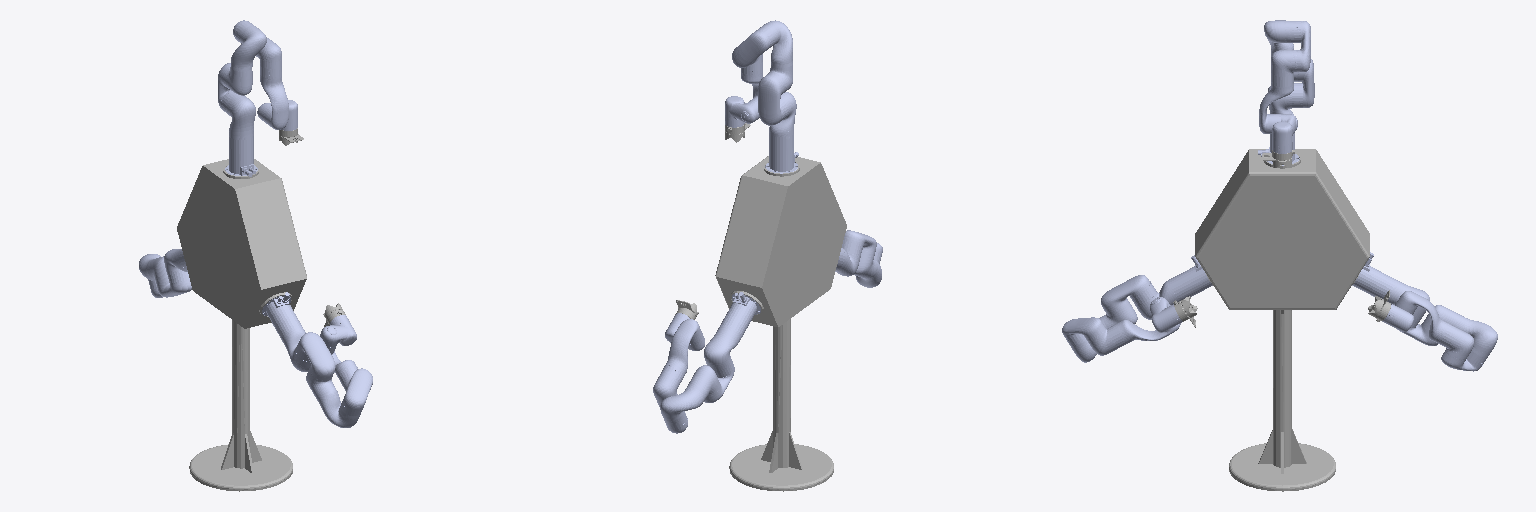
--- What the picture shows (computed from the rendered views, not written in the file) ---
The picture shows the robot from 3 angles, left to right: view 1: azimuth 30°, elevation 25°; view 2: azimuth 150°, elevation 25°; view 3: azimuth 270°, elevation 25°; orthographic projection.
Robot: fullbot — 22 links, 21 joints (18 revolute, 3 fixed); root link base_link; default pose: every joint at zero.
Visible links, largest first — view 1: base_link, link2_left, link2_up, link1_up, link2_right, link4_up, link3_left, link0_up, link0_left, link3_up, link5_left, link1_left (+1 smaller); view 2: base_link, link2_up, link2_right, link1_right, link2_left, link3_up, link4_right, link0_up, link0_right, link5_up, link3_right, link1_up (+1 smaller); view 3: base_link, link2_left, link2_right, link2_up, link3_up, link3_left, link3_right, link4_right, link0_left, link0_right, link5_up, link4_up (+5 smaller).
Boxes of the visible links, x1,y1,x2,y2 form: base_link: (177,159,306,491); link2_left: (299,332,363,427); link2_up: (218,22,266,108); link1_up: (221,91,255,139); link2_right: (139,254,191,297); link4_up: (260,75,288,129); link3_left: (338,367,372,409); link0_up: (225,136,257,176); link0_left: (262,292,302,339); link3_up: (233,20,281,78); link5_left: (320,315,356,346); link1_left: (282,327,310,371); base_link: (715,156,846,491); link2_up: (756,20,792,125); link2_right: (660,365,734,429); link1_right: (704,326,740,377); link2_left: (844,230,881,287); link3_up: (732,31,769,74); link4_right: (664,319,702,375); link0_up: (765,133,798,173); link0_right: (720,292,760,337); link5_up: (725,96,759,127); link3_right: (653,365,687,433); link1_up: (769,92,796,136); base_link: (1195,149,1369,491); link2_left: (1066,275,1149,362); link2_right: (1400,305,1497,365); link2_up: (1264,20,1314,107); link3_up: (1271,21,1310,86); link3_left: (1062,317,1126,355); link3_right: (1438,323,1482,371); link4_right: (1395,291,1447,342); link0_left: (1170,255,1212,300); link0_right: (1352,252,1395,298); link5_up: (1272,114,1297,153); link4_up: (1259,83,1293,133).
Bounding box of the posed robot: 0.4452 × 1.62 × 1.86 m (x, y, z).
22 mesh visuals loaded from 22 distinct referenced files (22 binary STL).

The robot description file, URDF, robot "fullbot":
<?xml version="1.0" encoding="utf-8"?>
<!-- This URDF was automatically created by SolidWorks to URDF Exporter! Originally created by Stephen Brawner ([email redacted]) 
     Commit Version: 1.6.0-4-g7f85cfe  Build Version: 1.6.7995.38578
     For more information, please see http://wiki.ros.org/sw_urdf_exporter -->
<robot
  name="fullbot">
  <link
    name="base_link">
    <inertial>
      <origin
        xyz="-0.00237670668945162 0.00109688224125671 0.762061321867194"
        rpy="0 0 0" />
      <mass
        value="83.9918863501521" />
      <inertia
        ixx="4.58131435742131"
        ixy="-3.09418403263941E-10"
        ixz="0.000336204370522542"
        iyy="3.15330051931996"
        iyz="-7.78528789321876E-10"
        izz="3.71265295574349" />
    </inertial>
    <visual>
      <origin
        xyz="0 0 0"
        rpy="0 0 0" />
      <geometry>
        <mesh
          filename="package://fullbot/meshes/base_link.STL" />
      </geometry>
      <material
        name="">
        <color
          rgba="0.752941176470588 0.752941176470588 0.752941176470588 1" />
      </material>
    </visual>
    <collision>
      <origin
        xyz="0 0 0"
        rpy="0 0 0" />
      <geometry>
        <mesh
          filename="package://fullbot/meshes/base_link.STL" />
      </geometry>
    </collision>
  </link>
  <link
    name="link0_up">
    <inertial>
      <origin
        xyz="0.00152351965279276 -9.20975643461316E-05 0.0721709681332363"
        rpy="0 0 0" />
      <mass
        value="1.15012347681565" />
      <inertia
        ixx="0.00305297585598164"
        ixy="7.49722844279344E-06"
        ixz="7.88115667134872E-05"
        iyy="0.00315399366896922"
        iyz="-4.77295655185554E-06"
        izz="0.00149595457455531" />
    </inertial>
    <visual>
      <origin
        xyz="0 0 0"
        rpy="0 0 0" />
      <geometry>
        <mesh
          filename="package://fullbot/meshes/link0_up.STL" />
      </geometry>
      <material
        name="">
        <color
          rgba="0.792156862745098 0.819607843137255 0.933333333333333 1" />
      </material>
    </visual>
    <collision>
      <origin
        xyz="0 0 0"
        rpy="0 0 0" />
      <geometry>
        <mesh
          filename="package://fullbot/meshes/link0_up.STL" />
      </geometry>
    </collision>
  </link>
  <joint
    name="joint0_up"
    type="fixed">
    <origin
      xyz="0 0 1.2629"
      rpy="0 0 -1.5708" />
    <parent
      link="base_link" />
    <child
      link="link0_up" />
    <axis
      xyz="0 0 0" />
  </joint>
  <link
    name="link1_up">
    <inertial>
      <origin
        xyz="-0.00635116531185579 0.000207381647010473 0.0933560245185359"
        rpy="0 0 0" />
      <mass
        value="1.3256364074878" />
      <inertia
        ixx="0.00337516344067471"
        ixy="2.91047495398252E-06"
        ixz="0.000390263321422472"
        iyy="0.0039707875530841"
        iyz="-7.74618991821581E-06"
        izz="0.00211705553045749" />
    </inertial>
    <visual>
      <origin
        xyz="0 0 0"
        rpy="0 0 0" />
      <geometry>
        <mesh
          filename="package://fullbot/meshes/link1_up.STL" />
      </geometry>
      <material
        name="">
        <color
          rgba="0.792156862745098 0.819607843137255 0.933333333333333 1" />
      </material>
    </visual>
    <collision>
      <origin
        xyz="0 0 0"
        rpy="0 0 0" />
      <geometry>
        <mesh
          filename="package://fullbot/meshes/link1_up.STL" />
      </geometry>
    </collision>
  </link>
  <joint
    name="joint1_up"
    type="revolute">
    <origin
      xyz="0 0 0.1448"
      rpy="0 0 0" />
    <parent
      link="link0_up" />
    <child
      link="link1_up" />
    <axis
      xyz="0 0 -1" />
    <limit
      lower="-6.28"
      upper="6.28"
      effort="20"
      velocity="1.5" />
  </joint>
  <link
    name="link2_up">
    <inertial>
      <origin
        xyz="-0.164334922175455 -0.0131391380189071 -0.0386527377791693"
        rpy="0 0 0" />
      <mass
        value="2.69348731441247" />
      <inertia
        ixx="0.00426310623774934"
        ixy="-0.00277535500543395"
        ixz="-0.000798338261530704"
        iyy="0.0150045970572789"
        iyz="0.000100430735697421"
        izz="0.0156052703291197" />
    </inertial>
    <visual>
      <origin
        xyz="0 0 0"
        rpy="0 0 0" />
      <geometry>
        <mesh
          filename="package://fullbot/meshes/link2_up.STL" />
      </geometry>
      <material
        name="">
        <color
          rgba="0.792156862745098 0.819607843137255 0.933333333333333 1" />
      </material>
    </visual>
    <collision>
      <origin
        xyz="0 0 0"
        rpy="0 0 0" />
      <geometry>
        <mesh
          filename="package://fullbot/meshes/link2_up.STL" />
      </geometry>
    </collision>
  </link>
  <joint
    name="joint2_up"
    type="revolute">
    <origin
      xyz="-0.0652950431339773 0.000349015389753116 0.122000005321613"
      rpy="3.14159265358979 1.5707963267949 0" />
    <parent
      link="link1_up" />
    <child
      link="link2_up" />
    <axis
      xyz="0 0 -1" />
    <limit
      lower="-2.05"
      upper="2.09"
      effort="20"
      velocity="1.5" />
  </joint>
  <link
    name="link3_up">
    <inertial>
      <origin
        xyz="0.0790017026576337 -0.0622013013556818 -0.0189186889395293"
        rpy="0 0 0" />
      <mass
        value="1.30253510106472" />
      <inertia
        ixx="0.00393747848651755"
        ixy="0.00136510222638933"
        ixz="0.00159608028913008"
        iyy="0.00525344165407256"
        iyz="-0.000920518752882782"
        izz="0.00455361194720345" />
    </inertial>
    <visual>
      <origin
        xyz="0 0 0"
        rpy="0 0 0" />
      <geometry>
        <mesh
          filename="package://fullbot/meshes/link3_up.STL" />
      </geometry>
      <material
        name="">
        <color
          rgba="0.792156862745098 0.819607843137255 0.933333333333333 1" />
      </material>
    </visual>
    <collision>
      <origin
        xyz="0 0 0"
        rpy="0 0 0" />
      <geometry>
        <mesh
          filename="package://fullbot/meshes/link3_up.STL" />
      </geometry>
    </collision>
  </link>
  <joint
    name="joint3_up"
    type="revolute">
    <origin
      xyz="-0.285902778509353 -0.053312933228828 -0.00830262337133821"
      rpy="0 0 0" />
    <parent
      link="link2_up" />
    <child
      link="link3_up" />
    <axis
      xyz="0 0 -1" />
    <limit
      lower="-3.92"
      upper="0.19"
      effort="20"
      velocity="1.5" />
  </joint>
  <link
    name="link4_up">
    <inertial>
      <origin
        xyz="0.0321807687354634 -0.00025917554824062 0.107627187331176"
        rpy="0 0 0" />
      <mass
        value="0.789560351493029" />
      <inertia
        ixx="0.00404949168648296"
        ixy="-3.36598707087042E-06"
        ixz="-0.00099079876639351"
        iyy="0.00449572325717299"
        iyz="-2.29651540749869E-06"
        izz="0.00105175547833875" />
    </inertial>
    <visual>
      <origin
        xyz="0 0 0"
        rpy="0 0 0" />
      <geometry>
        <mesh
          filename="package://fullbot/meshes/link4_up.STL" />
      </geometry>
      <material
        name="">
        <color
          rgba="0.792156862745098 0.819607843137255 0.933333333333333 1" />
      </material>
    </visual>
    <collision>
      <origin
        xyz="0 0 0"
        rpy="0 0 0" />
      <geometry>
        <mesh
          filename="package://fullbot/meshes/link4_up.STL" />
      </geometry>
    </collision>
  </link>
  <joint
    name="joint4_up"
    type="revolute">
    <origin
      xyz="0.159174227494142 -0.0777509869090924 -0.0574946534887292"
      rpy="0 1.5707963267949 0" />
    <parent
      link="link3_up" />
    <child
      link="link4_up" />
    <axis
      xyz="0 0 -1" />
    <limit
      lower="-6.28"
      upper="6.28"
      effort="20"
      velocity="1.5" />
  </joint>
  <link
    name="link5_up">
    <inertial>
      <origin
        xyz="0.0467464429721703 -0.00940639676845545 -0.0231013060407902"
        rpy="0 0 0" />
      <mass
        value="0.723051769580643" />
      <inertia
        ixx="0.000793027726972335"
        ixy="0.000197964210793357"
        ixz="-0.000254464226983087"
        iyy="0.00148592083068407"
        iyz="5.97819367646225E-05"
        izz="0.00164704279225573" />
    </inertial>
    <visual>
      <origin
        xyz="0 0 0"
        rpy="0 0 0" />
      <geometry>
        <mesh
          filename="package://fullbot/meshes/link5_up.STL" />
      </geometry>
      <material
        name="">
        <color
          rgba="0.792156862745098 0.819607843137255 0.933333333333333 1" />
      </material>
    </visual>
    <collision>
      <origin
        xyz="0 0 0"
        rpy="0 0 0" />
      <geometry>
        <mesh
          filename="package://fullbot/meshes/link5_up.STL" />
      </geometry>
    </collision>
  </link>
  <joint
    name="joint5_up"
    type="revolute">
    <origin
      xyz="0.0147482654558819 -0.000436124905815183 0.182995732412003"
      rpy="-1.5707963267949 0 -1.5707963267949" />
    <parent
      link="link4_up" />
    <child
      link="link5_up" />
    <axis
      xyz="0 0 1" />
    <limit
      lower="-1.69"
      upper="3.14"
      effort="20"
      velocity="1.5" />
  </joint>
  <link
    name="link6_up">
    <inertial>
      <origin
        xyz="-0.00127764071195329 7.89251114463596E-09 0.0348924628163474"
        rpy="0 0 0" />
      <mass
        value="0.240703496519078" />
      <inertia
        ixx="0.000111819933042724"
        ixy="1.06441768267333E-12"
        ixz="3.17569406177313E-07"
        iyy="0.000124185578330655"
        iyz="-2.44652552338761E-11"
        izz="0.000199479046718238" />
    </inertial>
    <visual>
      <origin
        xyz="0 0 0"
        rpy="0 0 0" />
      <geometry>
        <mesh
          filename="package://fullbot/meshes/link6_up.STL" />
      </geometry>
      <material
        name="">
        <color
          rgba="0.752941176470588 0.752941176470588 0.752941176470588 1" />
      </material>
    </visual>
    <collision>
      <origin
        xyz="0 0 0"
        rpy="0 0 0" />
      <geometry>
        <mesh
          filename="package://fullbot/meshes/link6_up.STL" />
      </geometry>
    </collision>
  </link>
  <joint
    name="joint6_up"
    type="revolute">
    <origin
      xyz="0.0758728691169504 -0.0585237361444011 -0.0143389355601516"
      rpy="1.5707963267949 1.5707963267949 0" />
    <parent
      link="link5_up" />
    <child
      link="link6_up" />
    <axis
      xyz="0 0 -1" />
    <limit
      lower="-6.28"
      upper="6.28"
      effort="20"
      velocity="1.5" />
  </joint>
  <link
    name="link0_right">
    <inertial>
      <origin
        xyz="0.00152352214909268 -9.20950558262884E-05 0.072170983394065"
        rpy="0 0 0" />
      <mass
        value="1.15012354839417" />
      <inertia
        ixx="0.00305297729491234"
        ixy="7.49727624531085E-06"
        ixz="7.88116536111991E-05"
        iyy="0.00315399502526908"
        iyz="-4.77312392810153E-06"
        izz="0.00149595458411752" />
    </inertial>
    <visual>
      <origin
        xyz="0 0 0"
        rpy="0 0 0" />
      <geometry>
        <mesh
          filename="package://fullbot/meshes/link0_right.STL" />
      </geometry>
      <material
        name="">
        <color
          rgba="0.792156862745098 0.819607843137255 0.933333333333333 1" />
      </material>
    </visual>
    <collision>
      <origin
        xyz="0 0 0"
        rpy="0 0 0" />
      <geometry>
        <mesh
          filename="package://fullbot/meshes/link0_right.STL" />
      </geometry>
    </collision>
  </link>
  <joint
    name="joint0_right"
    type="fixed">
    <origin
      xyz="0 0.2625 0.80825"
      rpy="3.1416 -1.0472 1.5708" />
    <parent
      link="base_link" />
    <child
      link="link0_right" />
    <axis
      xyz="0 0 0" />
  </joint>
  <link
    name="link1_right">
    <inertial>
      <origin
        xyz="-0.00635141038711484 0.000207534921337451 0.0933560223181532"
        rpy="0 0 0" />
      <mass
        value="1.32562534805268" />
      <inertia
        ixx="0.0033751569034854"
        ixy="2.90184699872976E-06"
        ixz="0.000390274835452127"
        iyy="0.00397076269428928"
        iyz="-7.74687080996629E-06"
        izz="0.00211702052844463" />
    </inertial>
    <visual>
      <origin
        xyz="0 0 0"
        rpy="0 0 0" />
      <geometry>
        <mesh
          filename="package://fullbot/meshes/link1_right.STL" />
      </geometry>
      <material
        name="">
        <color
          rgba="0.792156862745098 0.819607843137255 0.933333333333333 1" />
      </material>
    </visual>
    <collision>
      <origin
        xyz="0 0 0"
        rpy="0 0 0" />
      <geometry>
        <mesh
          filename="package://fullbot/meshes/link1_right.STL" />
      </geometry>
    </collision>
  </link>
  <joint
    name="joint1_right"
    type="revolute">
    <origin
      xyz="0 0 0.1448"
      rpy="0 0 0" />
    <parent
      link="link0_right" />
    <child
      link="link1_right" />
    <axis
      xyz="0 0 -1" />
    <limit
      lower="-6.28"
      upper="6.28"
      effort="20"
      velocity="1.5" />
  </joint>
  <link
    name="link2_right">
    <inertial>
      <origin
        xyz="-0.164337985161048 -0.0131393685703512 -0.0386544729786388"
        rpy="0 0 0" />
      <mass
        value="2.69362838096021" />
      <inertia
        ixx="0.00426335070454304"
        ixy="-0.00277555236003664"
        ixz="-0.000798532633310514"
        iyy="0.0150051670245593"
        iyz="0.000100373269271408"
        izz="0.0156058685529561" />
    </inertial>
    <visual>
      <origin
        xyz="0 0 0"
        rpy="0 0 0" />
      <geometry>
        <mesh
          filename="package://fullbot/meshes/link2_right.STL" />
      </geometry>
      <material
        name="">
        <color
          rgba="0.792156862745098 0.819607843137255 0.933333333333333 1" />
      </material>
    </visual>
    <collision>
      <origin
        xyz="0 0 0"
        rpy="0 0 0" />
      <geometry>
        <mesh
          filename="package://fullbot/meshes/link2_right.STL" />
      </geometry>
    </collision>
  </link>
  <joint
    name="joint2_right"
    type="revolute">
    <origin
      xyz="-0.0652950431339773 0.000349015389753198 0.122000005321614"
      rpy="3.14159263251637 1.5707963267949 0" />
    <parent
      link="link1_right" />
    <child
      link="link2_right" />
    <axis
      xyz="0 0 -1" />
    <limit
      lower="-2.05"
      upper="2.09"
      effort="20"
      velocity="1.5" />
  </joint>
  <link
    name="link3_right">
    <inertial>
      <origin
        xyz="0.0790018467474999 -0.0622013835327156 -0.0189188081086681"
        rpy="0 0 0" />
      <mass
        value="1.30253291173427" />
      <inertia
        ixx="0.00393746472517653"
        ixy="0.00136509457478538"
        ixz="0.00159605824936344"
        iyy="0.00525341640271265"
        iyz="-0.000920517395001331"
        izz="0.00455360703799699" />
    </inertial>
    <visual>
      <origin
        xyz="0 0 0"
        rpy="0 0 0" />
      <geometry>
        <mesh
          filename="package://fullbot/meshes/link3_right.STL" />
      </geometry>
      <material
        name="">
        <color
          rgba="0.792156862745098 0.819607843137255 0.933333333333333 1" />
      </material>
    </visual>
    <collision>
      <origin
        xyz="0 0 0"
        rpy="0 0 0" />
      <geometry>
        <mesh
          filename="package://fullbot/meshes/link3_right.STL" />
      </geometry>
    </collision>
  </link>
  <joint
    name="joint3_right"
    type="revolute">
    <origin
      xyz="-0.285902778509353 -0.0533129332288277 -0.0083026233713378"
      rpy="0 0 0" />
    <parent
      link="link2_right" />
    <child
      link="link3_right" />
    <axis
      xyz="0 0 -1" />
    <limit
      lower="-3.92"
      upper="0.19"
      effort="20"
      velocity="1.5" />
  </joint>
  <link
    name="link4_right">
    <inertial>
      <origin
        xyz="0.0321808159995989 -0.000259192543237335 0.107627165980801"
        rpy="0 0 0" />
      <mass
        value="0.78956108124552" />
      <inertia
        ixx="0.00404951021883878"
        ixy="-3.3674543336446E-06"
        ixz="-0.000990810460485379"
        iyy="0.00449575360734708"
        iyz="-2.29158571071361E-06"
        izz="0.00105176344238809" />
    </inertial>
    <visual>
      <origin
        xyz="0 0 0"
        rpy="0 0 0" />
      <geometry>
        <mesh
          filename="package://fullbot/meshes/link4_right.STL" />
      </geometry>
      <material
        name="">
        <color
          rgba="0.792156862745098 0.819607843137255 0.933333333333333 1" />
      </material>
    </visual>
    <collision>
      <origin
        xyz="0 0 0"
        rpy="0 0 0" />
      <geometry>
        <mesh
          filename="package://fullbot/meshes/link4_right.STL" />
      </geometry>
    </collision>
  </link>
  <joint
    name="joint4_right"
    type="revolute">
    <origin
      xyz="0.159174227494142 -0.0777509869090924 -0.0574946534887292"
      rpy="0 1.5707963267949 0" />
    <parent
      link="link3_right" />
    <child
      link="link4_right" />
    <axis
      xyz="0 0 -1" />
    <limit
      lower="-6.28"
      upper="6.28"
      effort="20"
      velocity="1.5" />
  </joint>
  <link
    name="link5_right">
    <inertial>
      <origin
        xyz="0.0467464712720566 -0.00940636520692905 -0.0231013135933531"
        rpy="0 0 0" />
      <mass
        value="0.723053236781345" />
      <inertia
        ixx="0.000793029275563745"
        ixy="0.00019796746165297"
        ixz="-0.000254450161449136"
        iyy="0.00148592048173132"
        iyz="5.97839010606921E-05"
        izz="0.00164706260101592" />
    </inertial>
    <visual>
      <origin
        xyz="0 0 0"
        rpy="0 0 0" />
      <geometry>
        <mesh
          filename="package://fullbot/meshes/link5_right.STL" />
      </geometry>
      <material
        name="">
        <color
          rgba="0.792156862745098 0.819607843137255 0.933333333333333 1" />
      </material>
    </visual>
    <collision>
      <origin
        xyz="0 0 0"
        rpy="0 0 0" />
      <geometry>
        <mesh
          filename="package://fullbot/meshes/link5_right.STL" />
      </geometry>
    </collision>
  </link>
  <joint
    name="joint5_right"
    type="revolute">
    <origin
      xyz="0.0147482654558826 -0.0004361249058151 0.182995732412003"
      rpy="-1.5707963267949 0 -1.5707963267949" />
    <parent
      link="link4_right" />
    <child
      link="link5_right" />
    <axis
      xyz="0 0 1" />
    <limit
      lower="-1.69"
      upper="3.14"
      effort="20"
      velocity="1.5" />
  </joint>
  <link
    name="link6_right">
    <inertial>
      <origin
        xyz="-0.00127764709875855 8.16060194419599E-09 0.0348924616310335"
        rpy="0 0 0" />
      <mass
        value="0.240703470193428" />
      <inertia
        ixx="0.000111819928166232"
        ixy="-8.53045575245595E-12"
        ixz="3.17582815697278E-07"
        iyy="0.000124185592316452"
        iyz="-2.14504240037665E-11"
        izz="0.000199479022123197" />
    </inertial>
    <visual>
      <origin
        xyz="0 0 0"
        rpy="0 0 0" />
      <geometry>
        <mesh
          filename="package://fullbot/meshes/link6_right.STL" />
      </geometry>
      <material
        name="">
        <color
          rgba="0.752941176470588 0.752941176470588 0.752941176470588 1" />
      </material>
    </visual>
    <collision>
      <origin
        xyz="0 0 0"
        rpy="0 0 0" />
      <geometry>
        <mesh
          filename="package://fullbot/meshes/link6_right.STL" />
      </geometry>
    </collision>
  </link>
  <joint
    name="joint6_right"
    type="revolute">
    <origin
      xyz="0.0758728691169504 -0.0585237361444011 -0.0143389355601516"
      rpy="1.5707963267949 1.5707963267949 0" />
    <parent
      link="link5_right" />
    <child
      link="link6_right" />
    <axis
      xyz="0 0 -1" />
    <limit
      lower="-6.28"
      upper="6.28"
      effort="20"
      velocity="1.5" />
  </joint>
  <link
    name="link0_left">
    <inertial>
      <origin
        xyz="-0.00152352228347186 9.20948264806314E-05 0.0721709830015318"
        rpy="0 0 0" />
      <mass
        value="1.15012353923379" />
      <inertia
        ixx="0.00305297726264137"
        ixy="7.49728091574788E-06"
        ixz="-7.88116451994899E-05"
        iyy="0.00315399499788005"
        iyz="4.77313793260606E-06"
        izz="0.00149595457246201" />
    </inertial>
    <visual>
      <origin
        xyz="0 0 0"
        rpy="0 0 0" />
      <geometry>
        <mesh
          filename="package://fullbot/meshes/link0_left.STL" />
      </geometry>
      <material
        name="">
        <color
          rgba="0.792156862745098 0.819607843137255 0.933333333333333 1" />
      </material>
    </visual>
    <collision>
      <origin
        xyz="0 0 0"
        rpy="0 0 0" />
      <geometry>
        <mesh
          filename="package://fullbot/meshes/link0_left.STL" />
      </geometry>
    </collision>
  </link>
  <joint
    name="joint0_left"
    type="fixed">
    <origin
      xyz="0 -0.262500000000018 0.808253175473086"
      rpy="3.14159265358979 1.04719755119659 1.57079632679489" />
    <parent
      link="base_link" />
    <child
      link="link0_left" />
    <axis
      xyz="0 0 0" />
  </joint>
  <link
    name="link1_left">
    <inertial>
      <origin
        xyz="-0.00635132541827643 0.000207433439637812 0.0933560224157137"
        rpy="0 0 0" />
      <mass
        value="1.32563223880842" />
      <inertia
        ixx="0.0033752021374132"
        ixy="2.88747662063124E-06"
        ixz="0.000390243275931501"
        iyy="0.00397075692793721"
        iyz="-7.76736476127417E-06"
        izz="0.0021170422993842" />
    </inertial>
    <visual>
      <origin
        xyz="0 0 0"
        rpy="0 0 0" />
      <geometry>
        <mesh
          filename="package://fullbot/meshes/link1_left.STL" />
      </geometry>
      <material
        name="">
        <color
          rgba="0.792156862745098 0.819607843137255 0.933333333333333 1" />
      </material>
    </visual>
    <collision>
      <origin
        xyz="0 0 0"
        rpy="0 0 0" />
      <geometry>
        <mesh
          filename="package://fullbot/meshes/link1_left.STL" />
      </geometry>
    </collision>
  </link>
  <joint
    name="joint1_left"
    type="revolute">
    <origin
      xyz="0 0 0.1448"
      rpy="0 0 0" />
    <parent
      link="link0_left" />
    <child
      link="link1_left" />
    <axis
      xyz="0 0 -1" />
    <limit
      lower="-6.28"
      upper="6.28"
      effort="20"
      velocity="1.5" />
  </joint>
  <link
    name="link2_left">
    <inertial>
      <origin
        xyz="-0.164335653200961 -0.0131391438496397 -0.0386534541310813"
        rpy="0 0 0" />
      <mass
        value="2.693519969393" />
      <inertia
        ixx="0.00426316968491273"
        ixy="-0.00277539275843287"
        ixz="-0.000798412755260658"
        iyy="0.015004913484326"
        iyz="0.000100414305662904"
        izz="0.0156055322063192" />
    </inertial>
    <visual>
      <origin
        xyz="0 0 0"
        rpy="0 0 0" />
      <geometry>
        <mesh
          filename="package://fullbot/meshes/link2_left.STL" />
      </geometry>
      <material
        name="">
        <color
          rgba="0.792156862745098 0.819607843137255 0.933333333333333 1" />
      </material>
    </visual>
    <collision>
      <origin
        xyz="0 0 0"
        rpy="0 0 0" />
      <geometry>
        <mesh
          filename="package://fullbot/meshes/link2_left.STL" />
      </geometry>
    </collision>
  </link>
  <joint
    name="joint2_left"
    type="revolute">
    <origin
      xyz="-0.0652950431339772 0.000349015389753207 0.122000005321613"
      rpy="3.14159263868863 1.5707963267949 0" />
    <parent
      link="link1_left" />
    <child
      link="link2_left" />
    <axis
      xyz="0 0 -1" />
    <limit
      lower="-2.05"
      upper="2.09"
      effort="20"
      velocity="1.5" />
  </joint>
  <link
    name="link3_left">
    <inertial>
      <origin
        xyz="0.0790016512060432 -0.0622011862834298 -0.0189187307620943"
        rpy="0 0 0" />
      <mass
        value="1.30253713018814" />
      <inertia
        ixx="0.00393752557798942"
        ixy="0.00136512084598024"
        ixz="0.00159609045475645"
        iyy="0.00525350026062385"
        iyz="-0.000920532713824778"
        izz="0.00455371583746519" />
    </inertial>
    <visual>
      <origin
        xyz="0 0 0"
        rpy="0 0 0" />
      <geometry>
        <mesh
          filename="package://fullbot/meshes/link3_left.STL" />
      </geometry>
      <material
        name="">
        <color
          rgba="0.792156862745098 0.819607843137255 0.933333333333333 1" />
      </material>
    </visual>
    <collision>
      <origin
        xyz="0 0 0"
        rpy="0 0 0" />
      <geometry>
        <mesh
          filename="package://fullbot/meshes/link3_left.STL" />
      </geometry>
    </collision>
  </link>
  <joint
    name="joint3_left"
    type="revolute">
    <origin
      xyz="-0.285902778509353 -0.0533129332288277 -0.00830262337133814"
      rpy="0 0 0" />
    <parent
      link="link2_left" />
    <child
      link="link3_left" />
    <axis
      xyz="0 0 -1" />
    <limit
      lower="-3.92"
      upper="0.19"
      effort="20"
      velocity="1.5" />
  </joint>
  <link
    name="link4_left">
    <inertial>
      <origin
        xyz="0.0321813918409148 -0.000259353515606797 0.107627755673519"
        rpy="0 0 0" />
      <mass
        value="0.789550324066767" />
      <inertia
        ixx="0.00404948831293703"
        ixy="-3.37071367934128E-06"
        ixz="-0.000990801773245661"
        iyy="0.00449572527498313"
        iyz="-2.29509968742282E-06"
        izz="0.00105175433912365" />
    </inertial>
    <visual>
      <origin
        xyz="0 0 0"
        rpy="0 0 0" />
      <geometry>
        <mesh
          filename="package://fullbot/meshes/link4_left.STL" />
      </geometry>
      <material
        name="">
        <color
          rgba="0.792156862745098 0.819607843137255 0.933333333333333 1" />
      </material>
    </visual>
    <collision>
      <origin
        xyz="0 0 0"
        rpy="0 0 0" />
      <geometry>
        <mesh
          filename="package://fullbot/meshes/link4_left.STL" />
      </geometry>
    </collision>
  </link>
  <joint
    name="joint4_left"
    type="revolute">
    <origin
      xyz="0.159174227494142 -0.0777509869090924 -0.0574946534887293"
      rpy="0 1.5707963267949 0" />
    <parent
      link="link3_left" />
    <child
      link="link4_left" />
    <axis
      xyz="0 0 -1" />
    <limit
      lower="-6.28"
      upper="6.28"
      effort="20"
      velocity="1.5" />
  </joint>
  <link
    name="link5_left">
    <inertial>
      <origin
        xyz="0.0467460587567171 -0.0094063461555137 -0.0231014499120238"
        rpy="0 0 0" />
      <mass
        value="0.723052791881536" />
      <inertia
        ixx="0.000793040035769922"
        ixy="0.000197992610855098"
        ixz="-0.000254454983145896"
        iyy="0.00148594871876037"
        iyz="5.97820535578688E-05"
        izz="0.00164710089968391" />
    </inertial>
    <visual>
      <origin
        xyz="0 0 0"
        rpy="0 0 0" />
      <geometry>
        <mesh
          filename="package://fullbot/meshes/link5_left.STL" />
      </geometry>
      <material
        name="">
        <color
          rgba="0.792156862745098 0.819607843137255 0.933333333333333 1" />
      </material>
    </visual>
    <collision>
      <origin
        xyz="0 0 0"
        rpy="0 0 0" />
      <geometry>
        <mesh
          filename="package://fullbot/meshes/link5_left.STL" />
      </geometry>
    </collision>
  </link>
  <joint
    name="joint5_left"
    type="revolute">
    <origin
      xyz="0.0147482654558818 -0.000436124905815183 0.182995732412003"
      rpy="-1.5707963267949 0 -1.5707963267949" />
    <parent
      link="link4_left" />
    <child
      link="link5_left" />
    <axis
      xyz="0 0 1" />
    <limit
      lower="-1.69"
      upper="3.14"
      effort="20"
      velocity="1.5" />
  </joint>
  <link
    name="link6_left">
    <inertial>
      <origin
        xyz="-0.00127763577348217 7.93220825134888E-09 0.0348924624099836"
        rpy="0 0 0" />
      <mass
        value="0.24070347329952" />
      <inertia
        ixx="0.000111819940943311"
        ixy="-1.15110725035503E-11"
        ixz="3.1755484877572E-07"
        iyy="0.0001241855941227"
        iyz="-3.8707722400089E-11"
        izz="0.00019947903857224" />
    </inertial>
    <visual>
      <origin
        xyz="0 0 0"
        rpy="0 0 0" />
      <geometry>
        <mesh
          filename="package://fullbot/meshes/link6_left.STL" />
      </geometry>
      <material
        name="">
        <color
          rgba="0.752941176470588 0.752941176470588 0.752941176470588 1" />
      </material>
    </visual>
    <collision>
      <origin
        xyz="0 0 0"
        rpy="0 0 0" />
      <geometry>
        <mesh
          filename="package://fullbot/meshes/link6_left.STL" />
      </geometry>
    </collision>
  </link>
  <joint
    name="joint6_left"
    type="revolute">
    <origin
      xyz="0.0758728691169504 -0.058523736144401 -0.0143389355601514"
      rpy="1.5707963267949 1.5707963267949 0" />
    <parent
      link="link5_left" />
    <child
      link="link6_left" />
    <axis
      xyz="0 0 -1" />
    <limit
      lower="-6.28"
      upper="6.28"
      effort="20"
      velocity="1.5" />
  </joint>
</robot>
